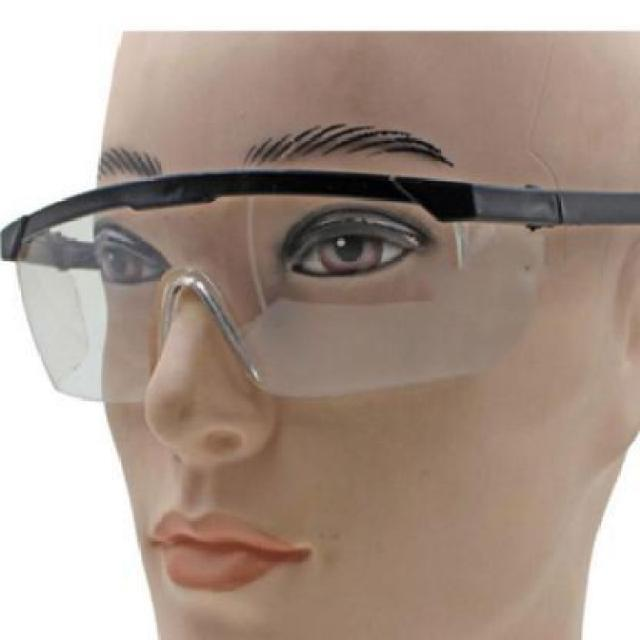Goggles: (1, 166, 640, 409)
